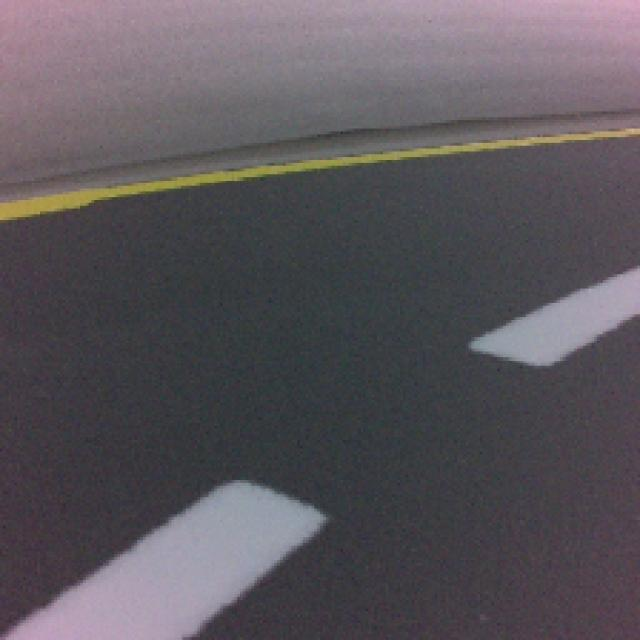Guard rail: (8, 473, 328, 638)
